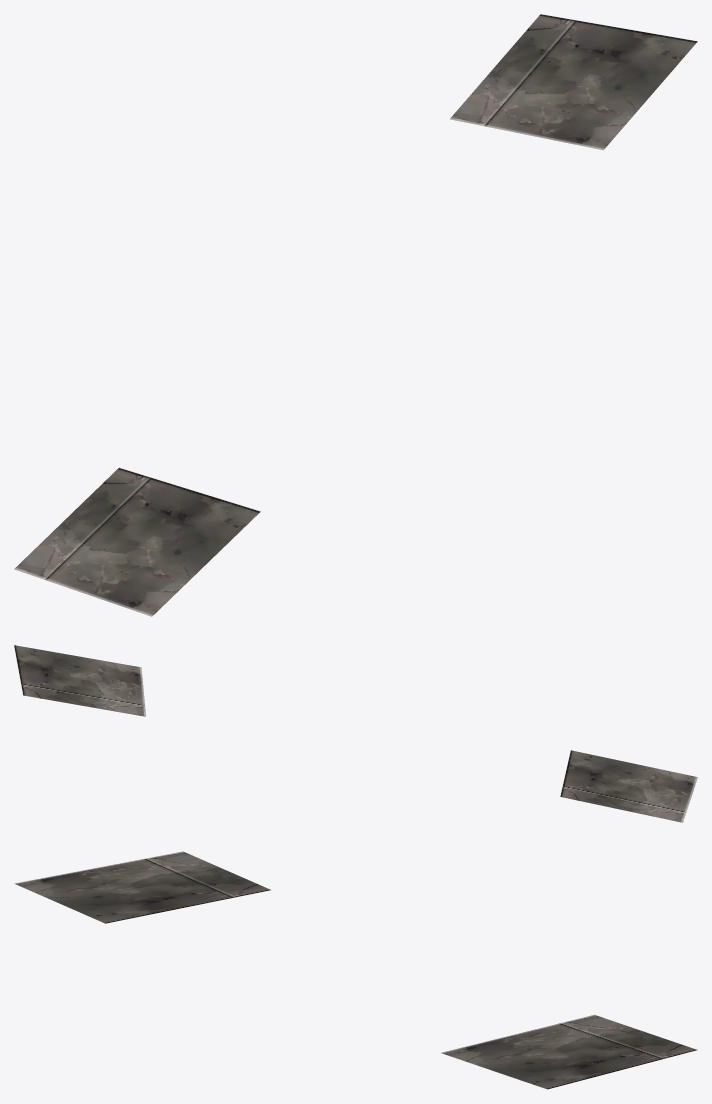
The model's file is CH09_SMAUG_PLAYSURFACE_LAIR140.fbx.
The picture shows the model from 3 angles, top to bottom: view 1: azimuth 30°, elevation 25°; view 2: azimuth 150°, elevation 25°; view 3: azimuth 270°, elevation 25°; orthographic projection. The views are drawn at different scales.
Visible parts, largest first — view 1: CH09_SMAUG_PLAYSURFACE_LAIR140; view 2: CH09_SMAUG_PLAYSURFACE_LAIR140; view 3: CH09_SMAUG_PLAYSURFACE_LAIR140.
Part boxes in pixels (bbox=[...]): CH09_SMAUG_PLAYSURFACE_LAIR140: bbox=[14, 14, 697, 616]; CH09_SMAUG_PLAYSURFACE_LAIR140: bbox=[14, 645, 697, 822]; CH09_SMAUG_PLAYSURFACE_LAIR140: bbox=[14, 851, 697, 1089].
Size of the model in its own units: 62695 by 13576 by 41249.
1 material, 1 textured.
